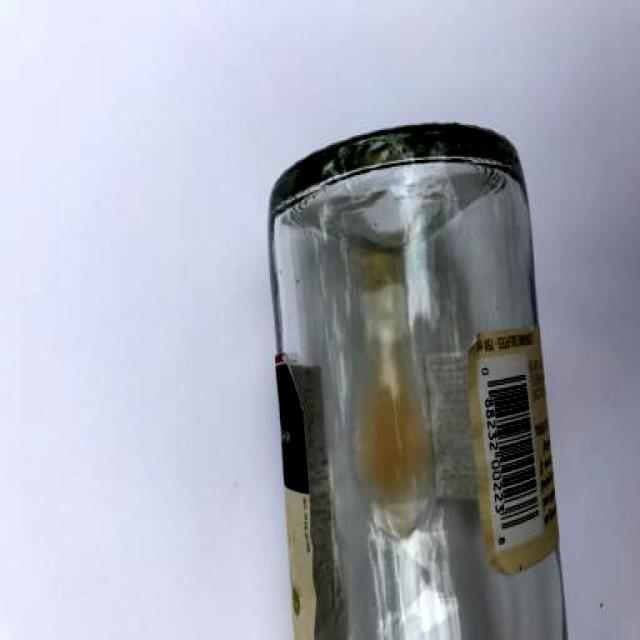Glass: (266, 122, 578, 640)
